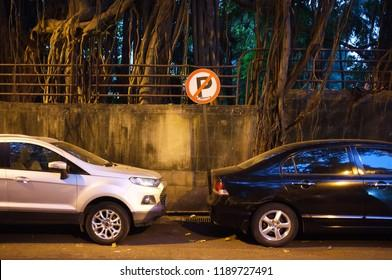No Parking: (188, 67, 220, 102)
